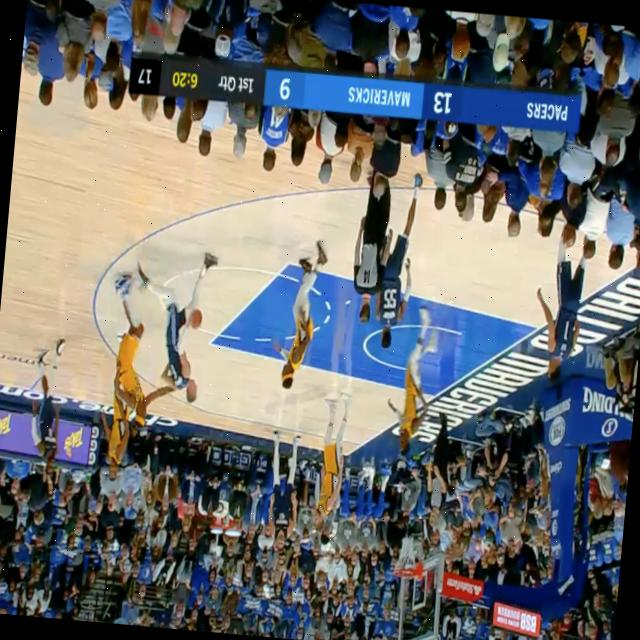no foul: (91, 232, 221, 446)
